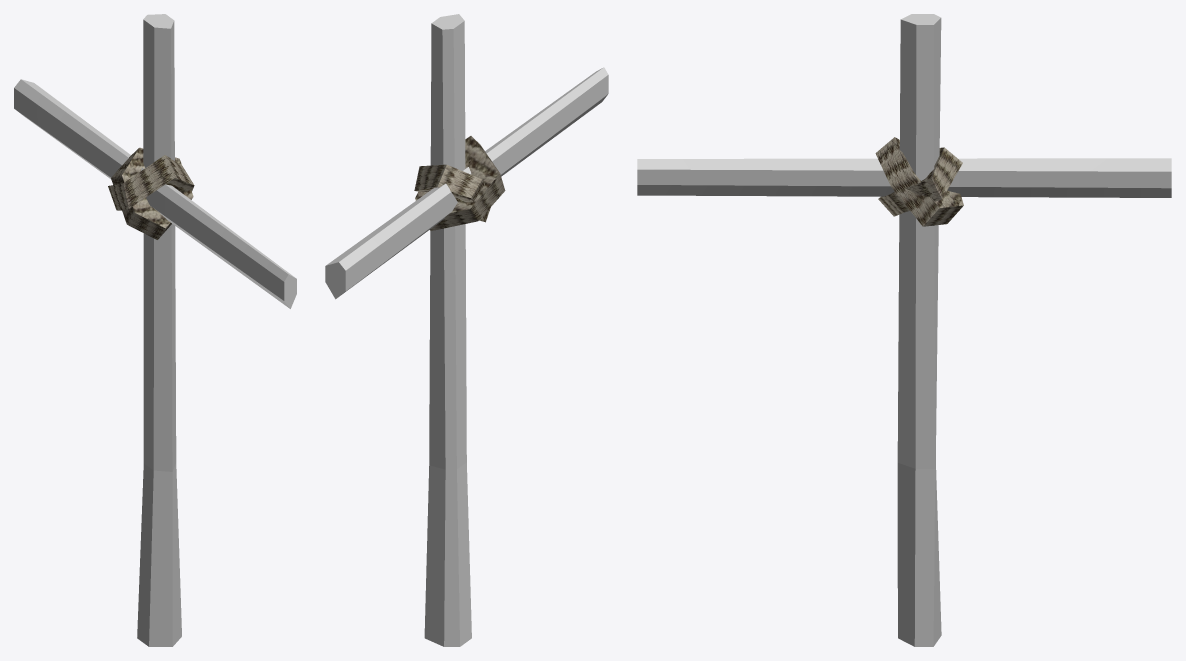
The model's file is Cross.fbx.
The picture shows the model from 3 angles, left to right: view 1: azimuth 30°, elevation 25°; view 2: azimuth 150°, elevation 25°; view 3: azimuth 270°, elevation 25°; orthographic projection.
Parts seen in each view (by area): view 1: Cylinder; view 2: Cylinder; view 3: Cylinder.
Part boxes in pixels (x1=…): Cylinder: x1=14, y1=14, x2=296, y2=646; Cylinder: x1=325, y1=14, x2=608, y2=646; Cylinder: x1=637, y1=14, x2=1171, y2=646.
Bounding box in the file's own units: 83.73 × 711 × 557.
